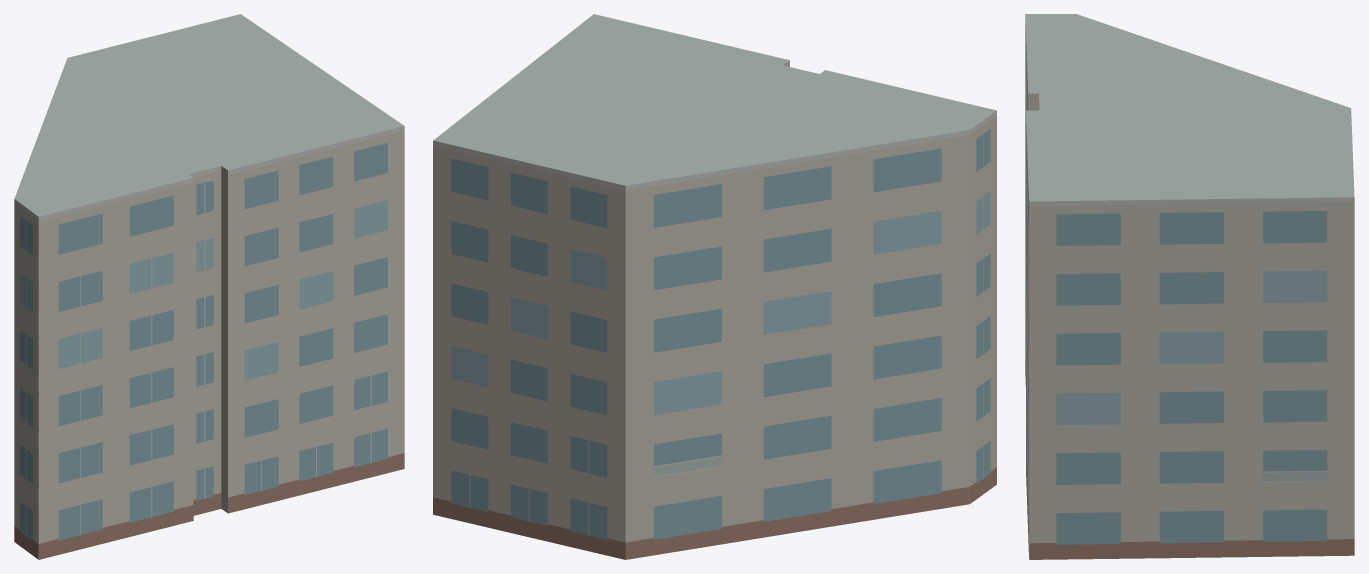
The model's file is survey-upis-32782565.glb.
The picture shows the model from 3 angles, left to right: view 1: azimuth 30°, elevation 25°; view 2: azimuth 150°, elevation 25°; view 3: azimuth 270°, elevation 25°; orthographic projection. The views are drawn at different scales.
Visible parts, largest first — view 1: survey-upis-32782565.tmp; view 2: survey-upis-32782565.tmp; view 3: survey-upis-32782565.tmp.
Part boxes in pixels (left/top/right/bottom): survey-upis-32782565.tmp: left=14, top=14, right=404, bottom=559; survey-upis-32782565.tmp: left=433, top=14, right=996, bottom=559; survey-upis-32782565.tmp: left=1025, top=14, right=1354, bottom=559.
Bounding box in the file's own units: 20.54 × 18.3 × 15.24.
